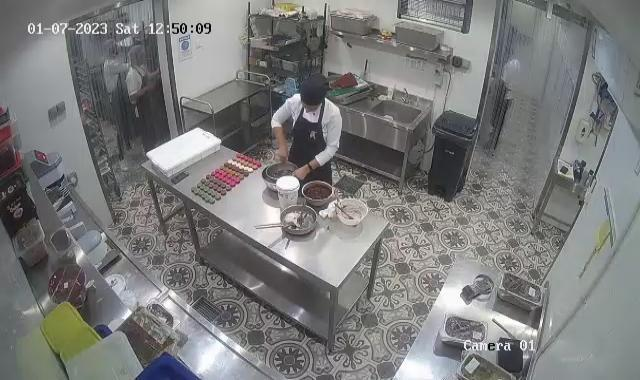gloves: (298, 68, 330, 102)
no_apron: (290, 160, 318, 186), (272, 134, 292, 168)
no_hairnet: (293, 105, 329, 121)
